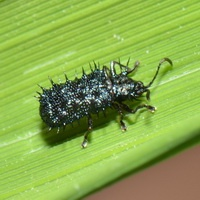insect: (37, 58, 172, 146)
